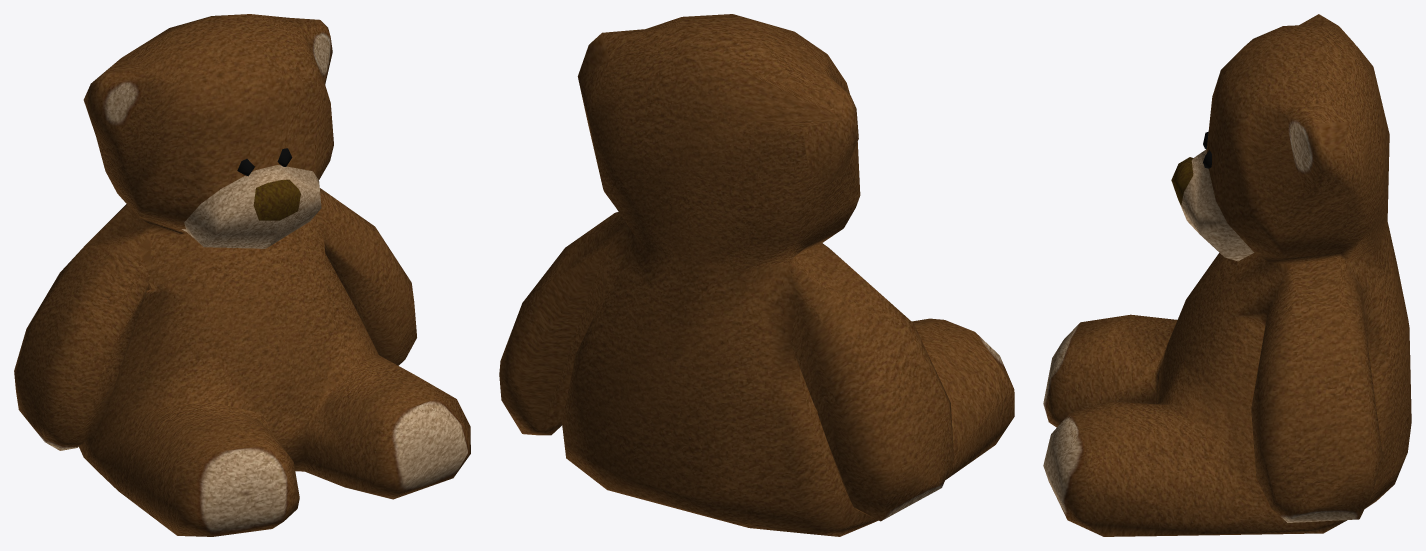
Rendered from Teddy_LOD3.fbx.
3 views of the same model, side by side, from view 1: azimuth 30°, elevation 25°; view 2: azimuth 150°, elevation 25°; view 3: azimuth 270°, elevation 25° (orthographic). The views are drawn at different scales.
Parts seen in each view (by area): view 1: Cube; view 2: Cube; view 3: Cube.
Part boxes in pixels (box(x1,y1,x2,y2)): Cube: box(14, 14, 470, 536); Cube: box(499, 14, 1014, 536); Cube: box(1043, 14, 1411, 536).
Bounding box in the file's own units: 413 × 440 × 339.
